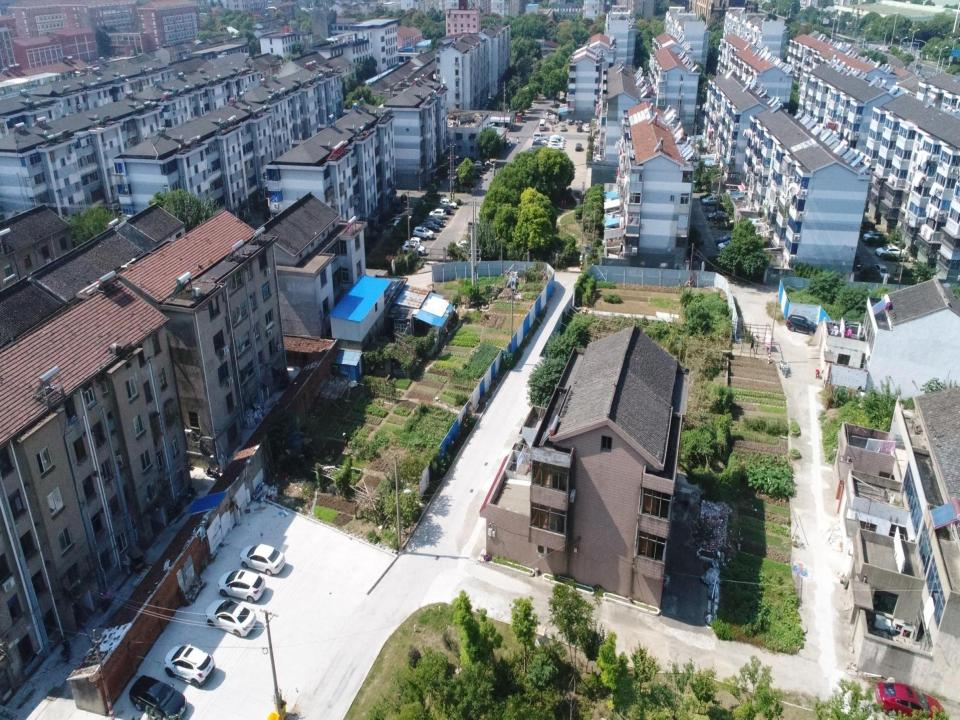car: (872, 676, 946, 717), (128, 672, 186, 718), (163, 644, 215, 688), (204, 600, 257, 638), (215, 570, 264, 605), (239, 544, 288, 578), (786, 314, 818, 337), (875, 244, 902, 258), (412, 225, 434, 241), (401, 242, 425, 256), (874, 262, 891, 280), (862, 230, 886, 242), (707, 209, 729, 222), (717, 240, 738, 252), (426, 216, 444, 229), (422, 221, 439, 234), (428, 208, 446, 220), (438, 198, 457, 209), (701, 195, 720, 206), (431, 204, 451, 214), (402, 237, 421, 247), (716, 234, 735, 244), (525, 147, 541, 157), (532, 132, 549, 141), (549, 135, 565, 143), (548, 142, 563, 150), (532, 138, 547, 146), (549, 139, 563, 147), (532, 140, 544, 149), (514, 109, 526, 115), (575, 143, 582, 151), (559, 123, 566, 131), (576, 124, 582, 132), (584, 124, 590, 132), (913, 64, 922, 69)
van: (539, 118, 546, 132), (472, 164, 483, 172)
